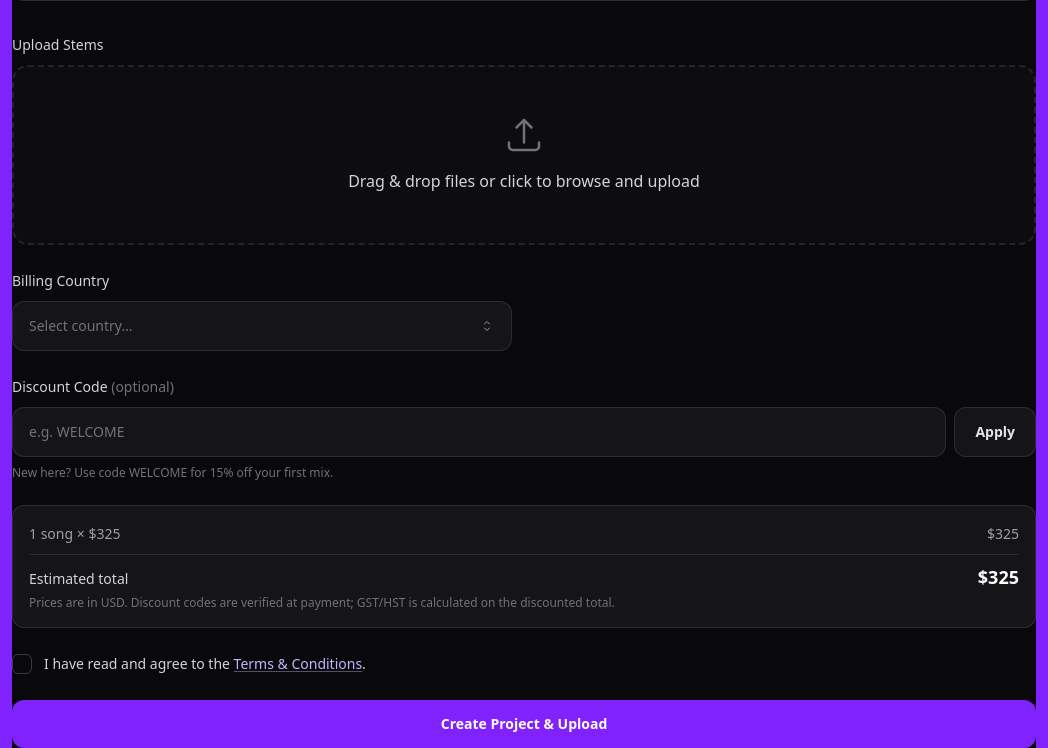
Test: NewProjectForm › shows the rejection message and keeps the quote undiscounted
(page scrolled)
Type "BOGUS" into the field labelled "Discount Code (optional)" at (479, 432), box [12,407,946,457]
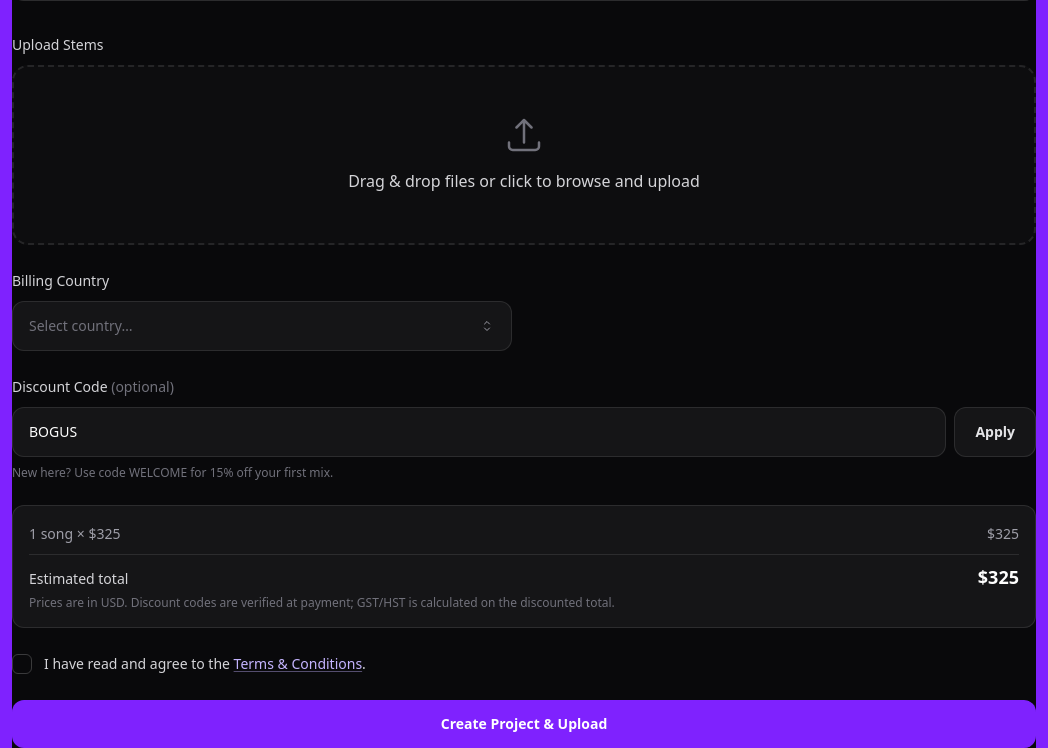
Click the button "Apply" at (995, 432), box [954,407,1036,457]
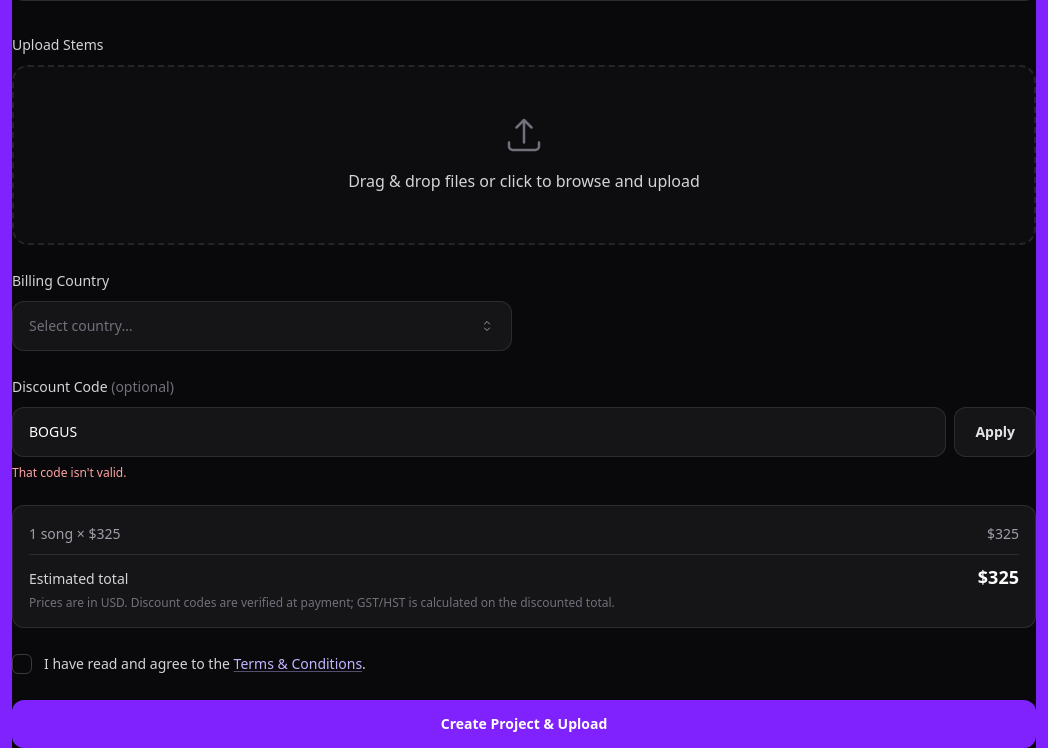
Check: the element with test id "live-quote" does not show "Discount ·", box [12,505,1036,628]
Check: the message reads "That code isn't valid.", box [12,464,126,481]
